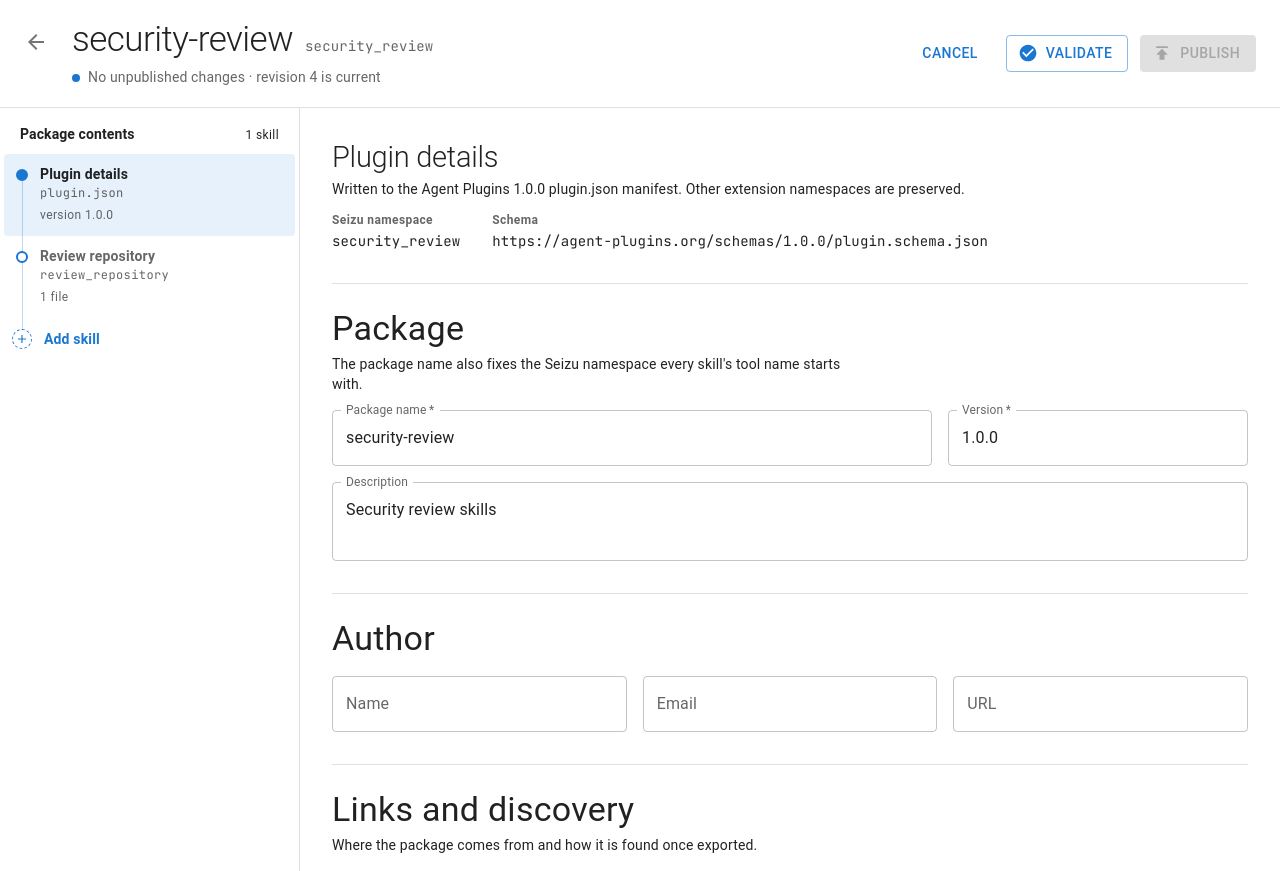
Scenario: PluginEditor › does not count opening a skill as an edit
This screenshot has width=1280, height=871.
Expected: the heading "Plugin details" is shown, [332,140,498,174]
Step 1. Click the text "Review repository" → (98, 256), box [40,248,155,264]
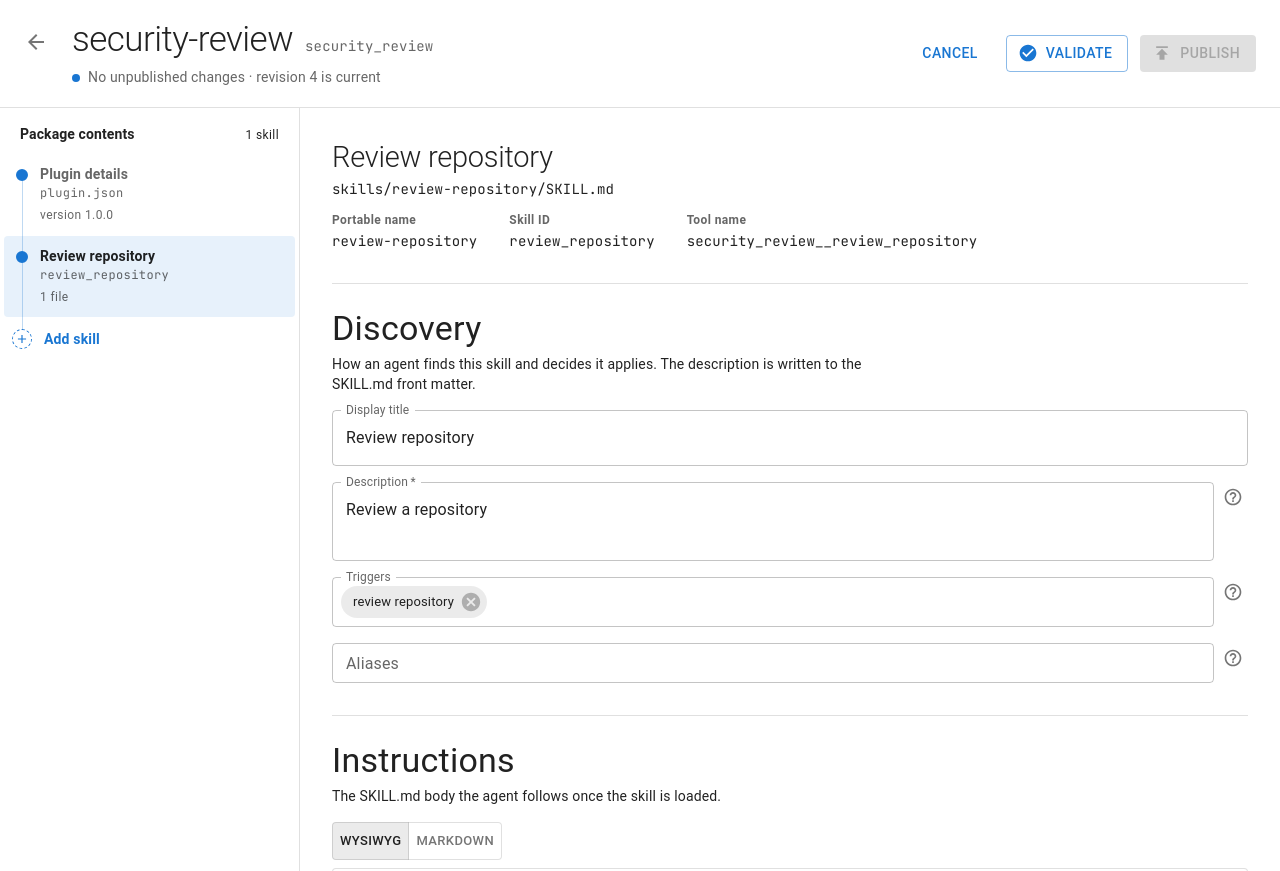
Expected: the text "No unpublished changes · revision 4 is current" is shown, [88,67,381,87]
Expected: the element "Skill ID" shows "review_repository", [509,232,655,250]
Step 2. Replace the text in the text box labelled "Description *" with "Review a repository carefully" → (773, 521), box [346,498,1200,544]
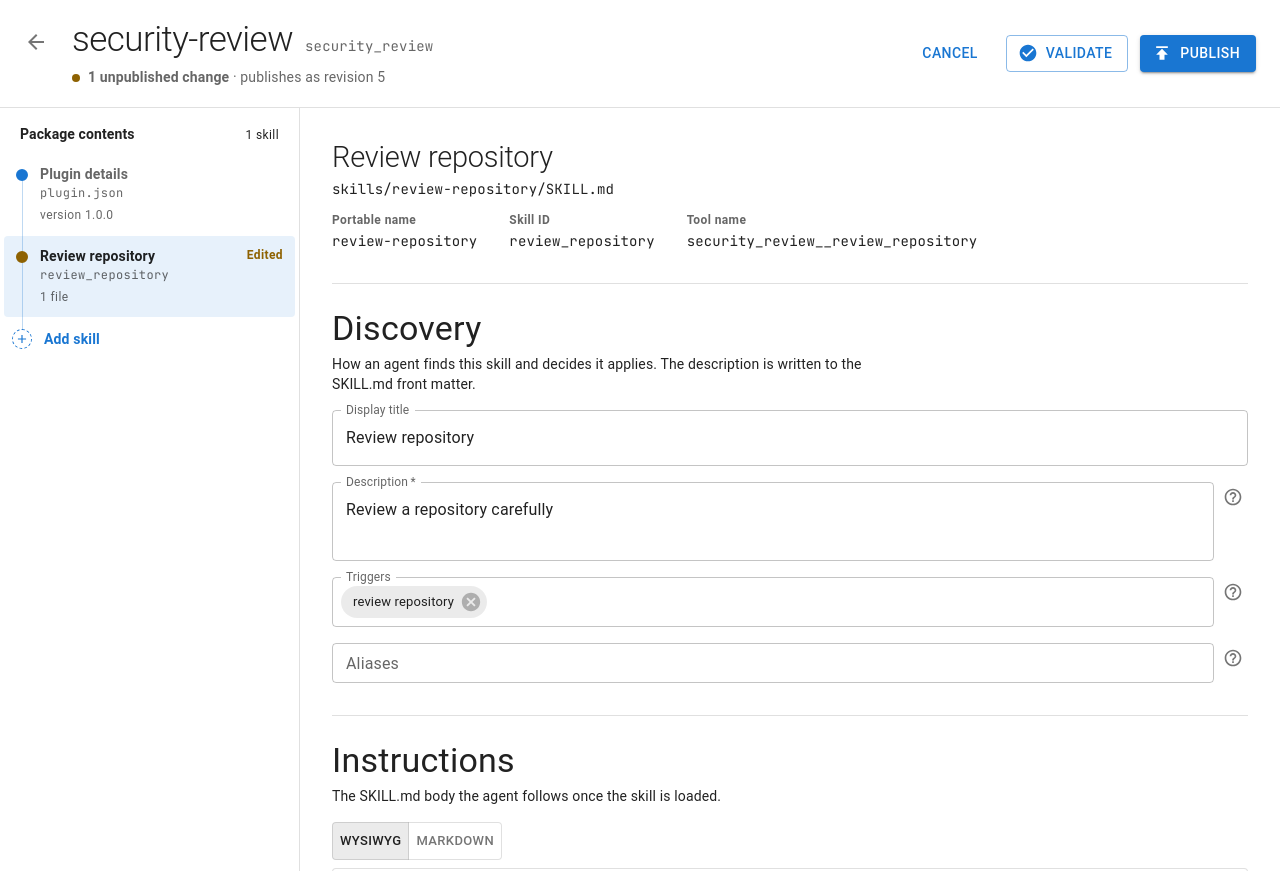
Expected: the text "1 unpublished change" is shown, [88,69,229,85]
Expected: the text "1 unpublished change · publishes as revision 5" is shown, [88,67,385,87]
Expected: the text "Edited" is shown, [247,246,283,266]
Step 3. Replace the text in the text box labelled "Description *" with "Review a repository" → (773, 521), box [346,498,1200,544]
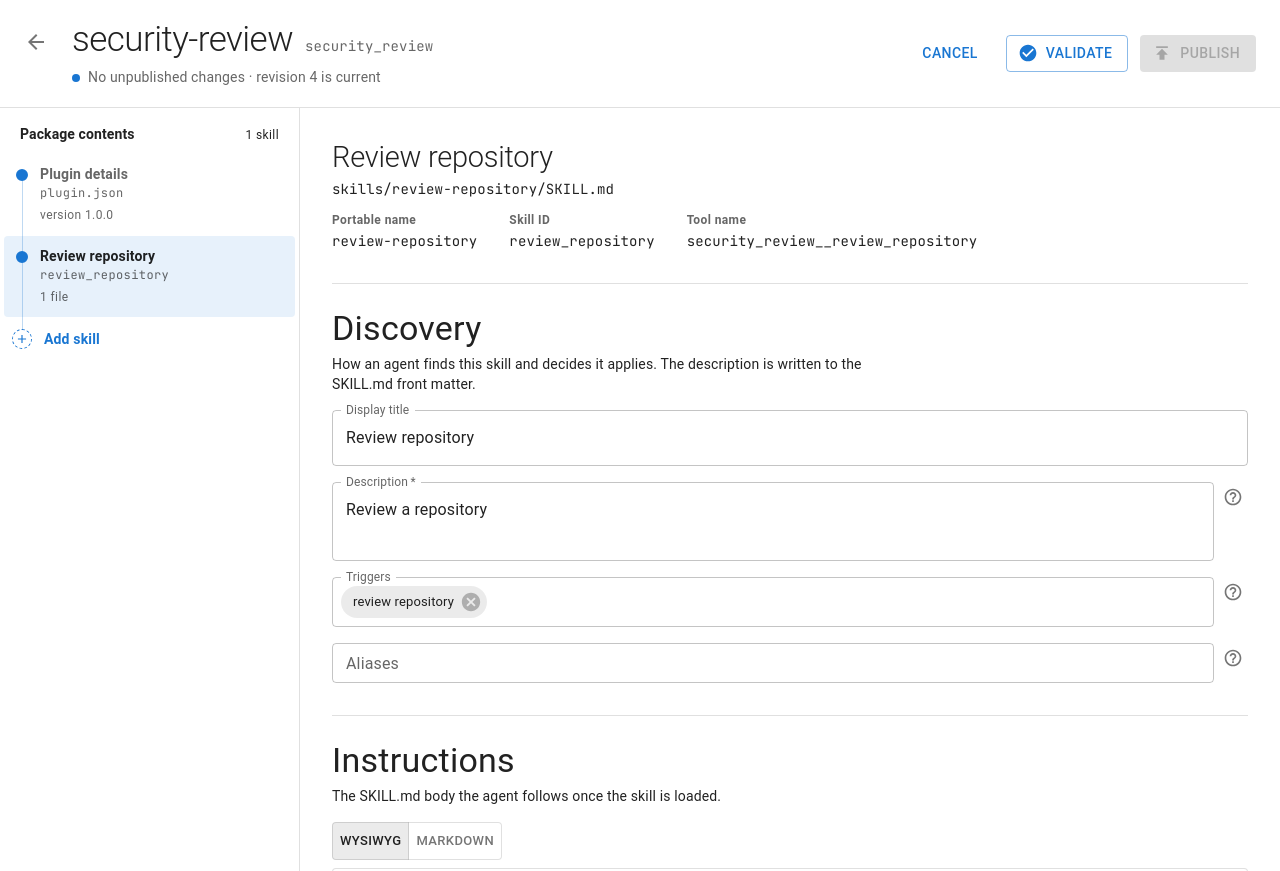
Expected: the text "No unpublished changes · revision 4 is current" is shown, [88,67,381,87]
Expected: the text "Edited" is gone
